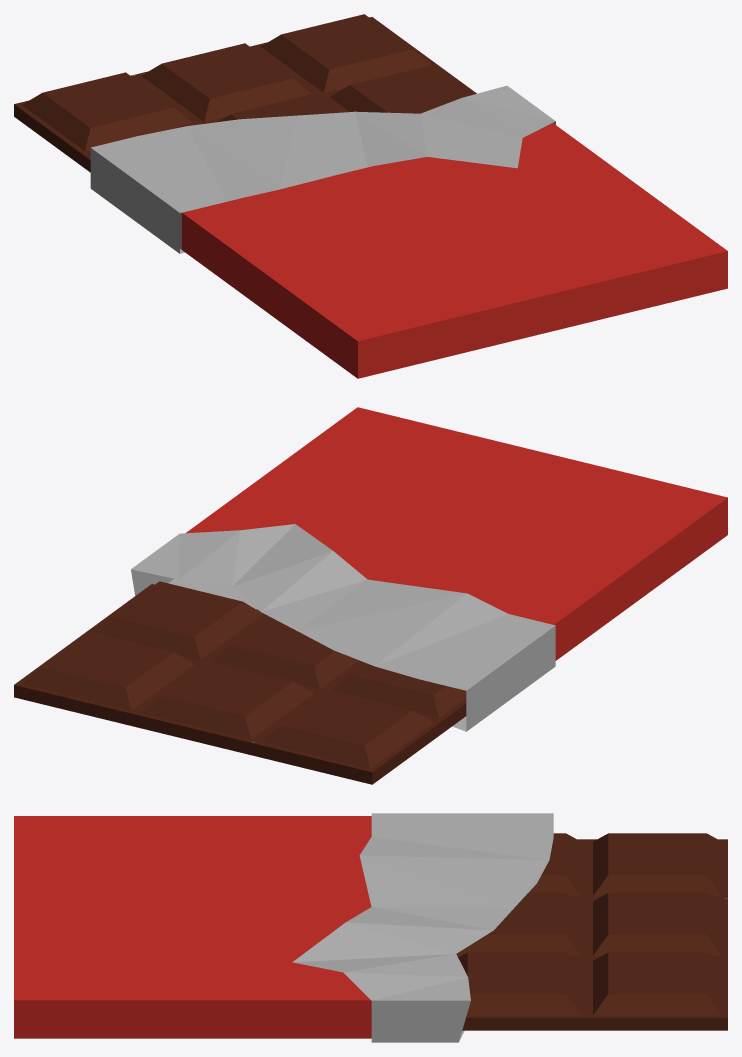
File: ChocolateLarge.obj
3 renders of one model, top to bottom at view 1: azimuth 30°, elevation 25°; view 2: azimuth 150°, elevation 25°; view 3: azimuth 270°, elevation 25°, orthographic. The views are drawn at different scales.
Visible parts, largest first — view 1: 立方体, Cube.014, Cube.012, Cube.013, Cube.008, Cube.007; view 2: 立方体, Cube.014, Cube.012, Cube.013, Cube.008, Cube.007, Cube.006; view 3: 立方体, Cube.012, Cube.008, Cube.013, Cube.014, Cube.007, Cube.006.
Boxes of the visible parts, box(x1,y1,x2,y2) form: 立方体: box(90, 85, 727, 378); Cube.014: box(14, 72, 200, 166); Cube.012: box(253, 14, 440, 96); Cube.013: box(134, 43, 320, 124); Cube.008: box(322, 64, 476, 113); Cube.007: box(216, 94, 343, 122); 立方体: box(131, 407, 727, 731); Cube.014: box(253, 690, 441, 784); Cube.012: box(14, 631, 201, 726); Cube.013: box(133, 661, 321, 755); Cube.008: box(83, 581, 267, 663); Cube.007: box(203, 616, 363, 692); Cube.006: box(322, 662, 466, 733); 立方体: box(14, 813, 553, 1042); Cube.012: box(587, 952, 727, 1030); Cube.008: box(458, 952, 587, 1030); Cube.013: box(587, 892, 727, 958); Cube.014: box(587, 833, 727, 898); Cube.007: box(456, 892, 587, 958); Cube.006: box(529, 833, 587, 898).
Size of the model in its own units: 0.6298 by 0.0784 by 1.01.
Materials: 1 (1 with a texture image).
